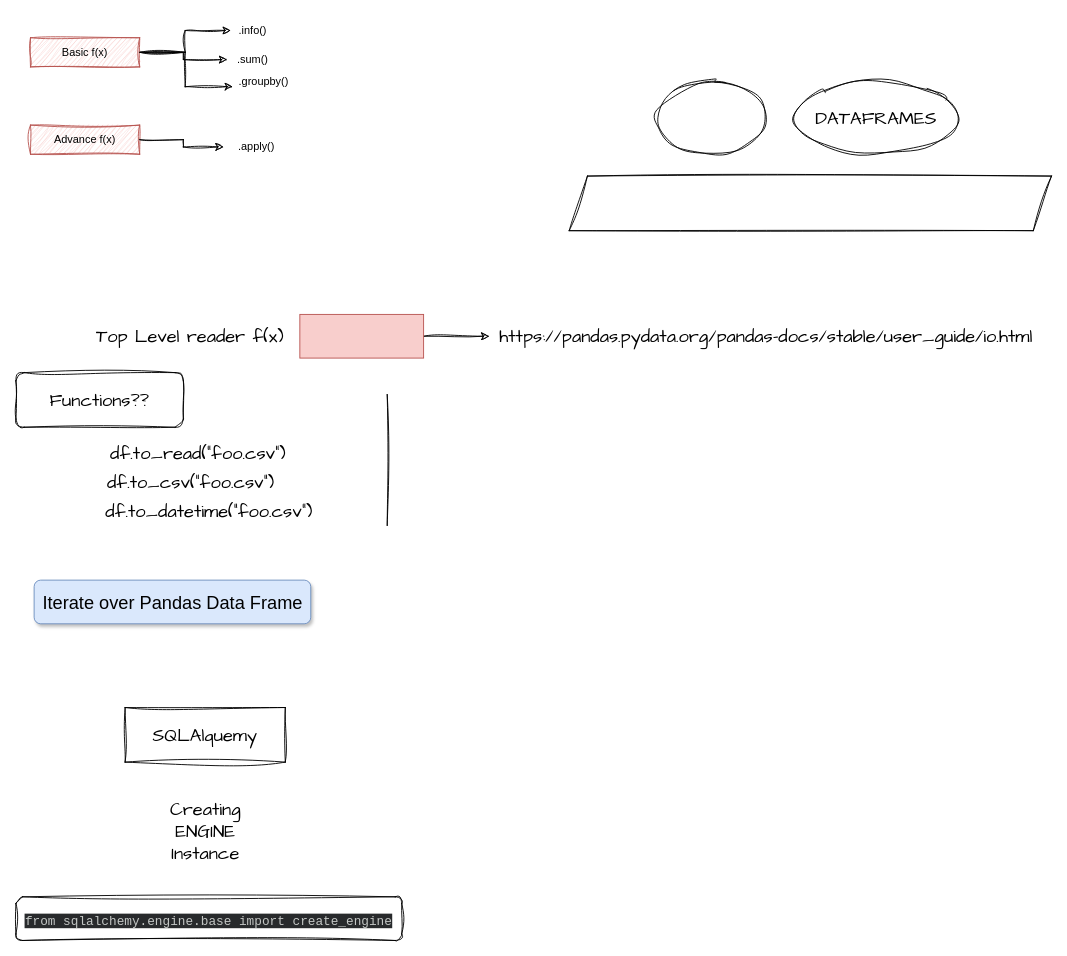
This 1067x956 diagram has some shape labels left out. The shapes that lost their labels are listed below. From the top down, each one's centre as x and y in pixels, then its label:
At point (711, 117): "SERIES".
At point (810, 203): "OPTIMIZED PANDAS DATA ACCESS METHODS".
At point (361, 335): "I/O API tools".
